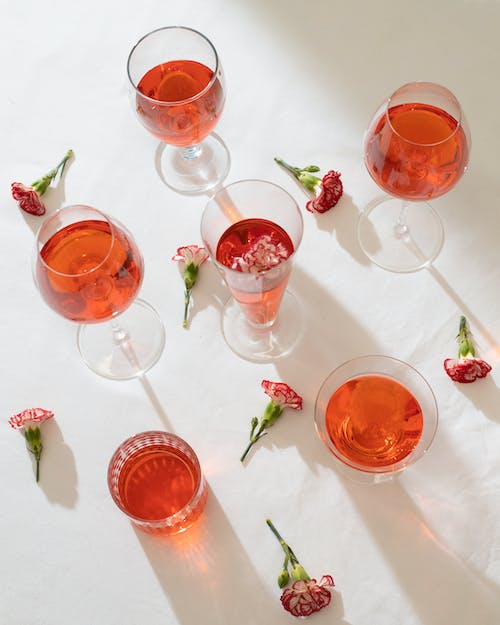alcohol: (30, 201, 166, 382), (356, 79, 473, 272), (198, 176, 307, 364), (309, 353, 443, 486), (127, 24, 231, 194), (104, 427, 209, 539)
